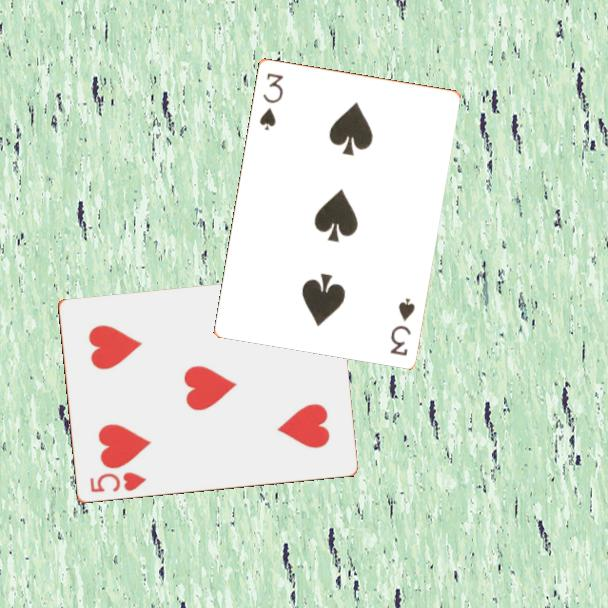h05: (86, 469, 149, 496)
s03: (386, 294, 418, 359), (256, 69, 286, 132)
